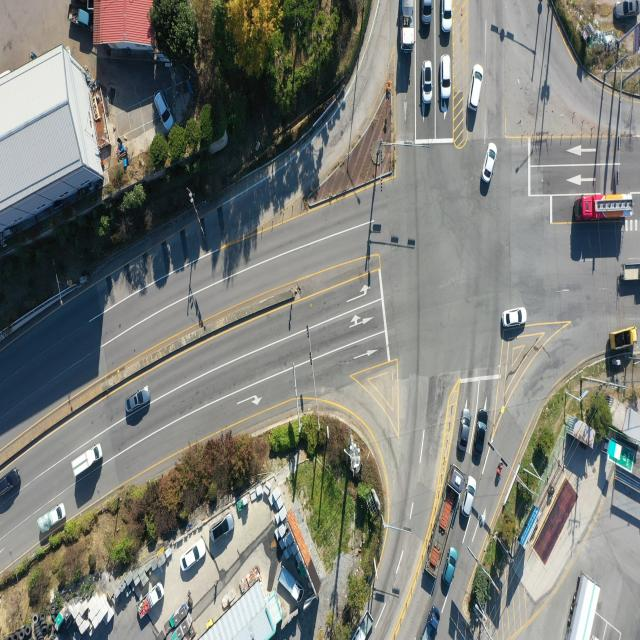car: (182, 536, 208, 572), (474, 408, 488, 464), (156, 90, 175, 131), (457, 409, 471, 458), (468, 65, 482, 111), (127, 387, 152, 412), (461, 477, 476, 518), (0, 471, 21, 499), (212, 515, 233, 543), (483, 144, 497, 184), (442, 55, 454, 100), (422, 62, 434, 106), (614, 0, 640, 19), (445, 547, 458, 584), (502, 308, 525, 328), (443, 0, 454, 32), (421, 0, 433, 25)
medium_truck: (429, 462, 463, 572), (565, 576, 600, 640), (576, 195, 632, 222), (402, 0, 418, 51)
small_truck: (136, 581, 166, 622), (71, 445, 102, 482), (37, 500, 67, 534), (279, 562, 303, 603), (64, 2, 92, 32), (611, 327, 640, 354), (424, 605, 441, 640), (357, 612, 375, 640), (623, 266, 640, 282)
